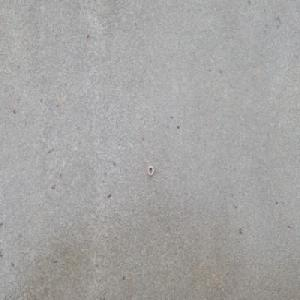Nut: (147, 164, 154, 176)
